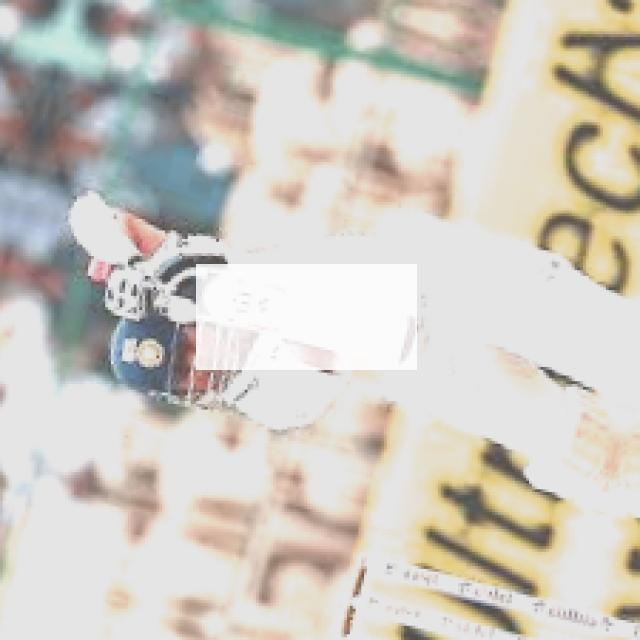bat: (195, 264, 421, 375)
toe: (400, 313, 418, 365)
